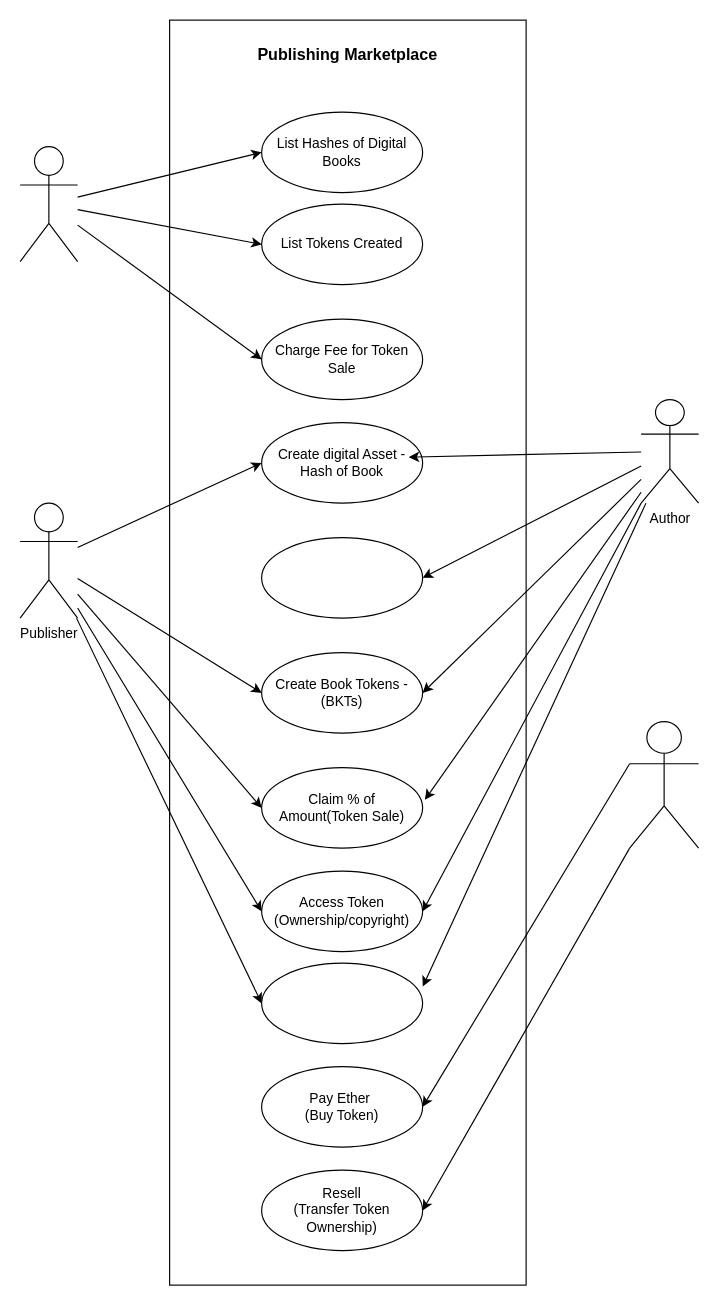
The diagram is 719 pixels wide and 1305 high, and some of its shapes have lost their labels. The centre of each missing label's shape, as x and y in pixels:
Approval for Use - (True/False of Hash to Publisher Address): pixel 341 577
DApp: pixel 48 203
Reader: pixel 663 784
Transfer Token Ownership (Sell Token): pixel 341 1003
